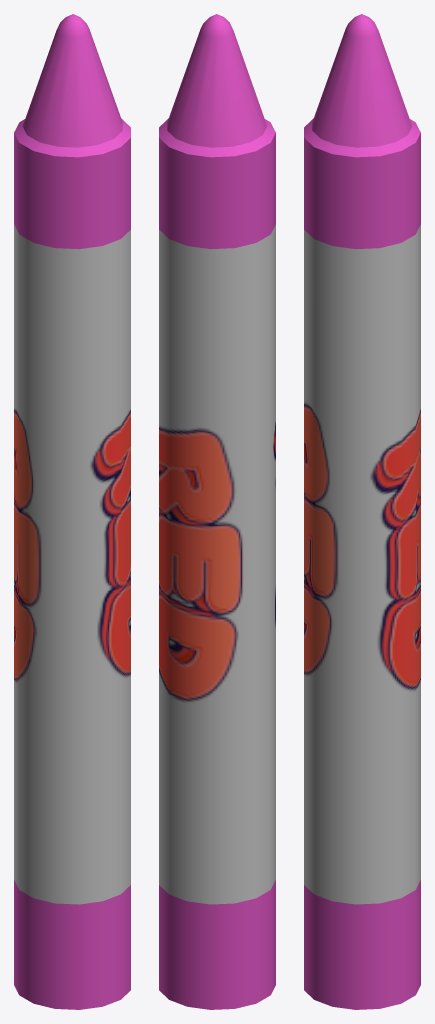
File: Crayons 2.fbx
3 renders of one model, left to right at view 1: azimuth 90°, elevation 25°; view 2: azimuth 150°, elevation 25°; view 3: azimuth 270°, elevation 25°, orthographic.
Visible parts, largest first — view 1: Crayons; view 2: Crayons; view 3: Crayons.
Boxes of the visible parts, x1,y1,x2,y2 form: Crayons: (14, 14, 130, 1009); Crayons: (159, 14, 275, 1009); Crayons: (304, 14, 420, 1009).
Size of the model in its own units: 67.21 by 614 by 66.85.
Materials: 2 (1 with a texture image).
